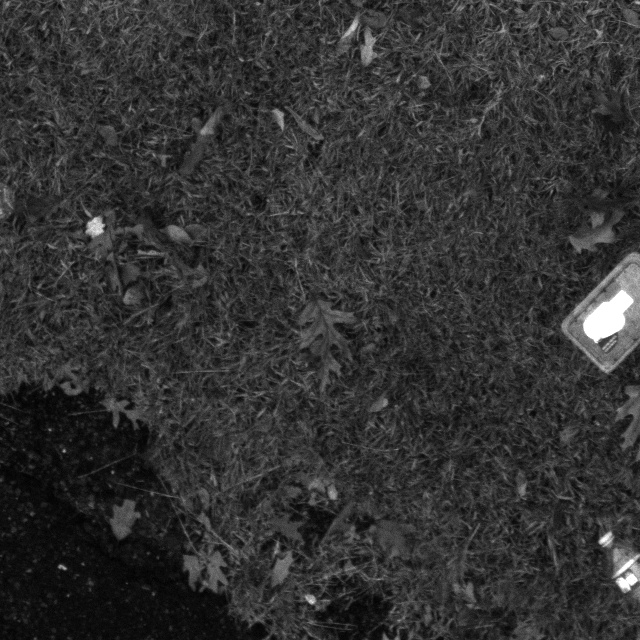bottle: (583, 519, 640, 640)
container: (555, 234, 640, 388)
